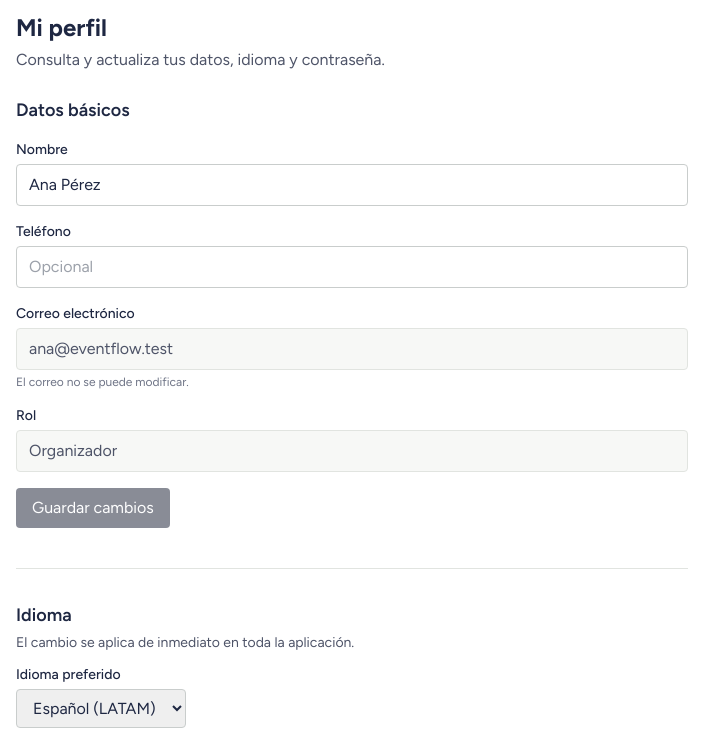
Test: US-006 — ver y editar perfil › AC-02: editar el nombre muestra el aviso de éxito
Replace the text in the field labelled "Nombre" with "Ana María" at (352, 185), box [16,164,688,206]
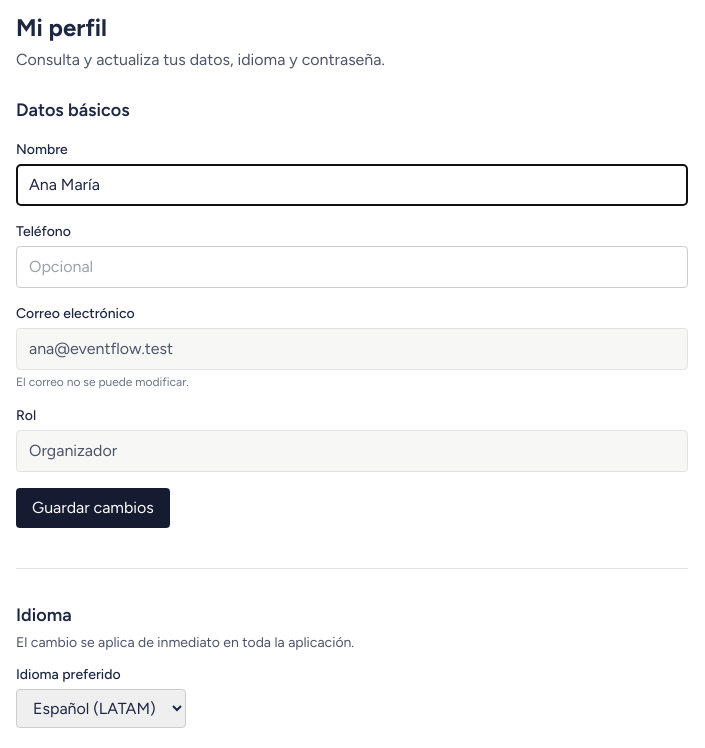
Click the button "Guardar cambios" at (93, 508), box [16,488,170,528]
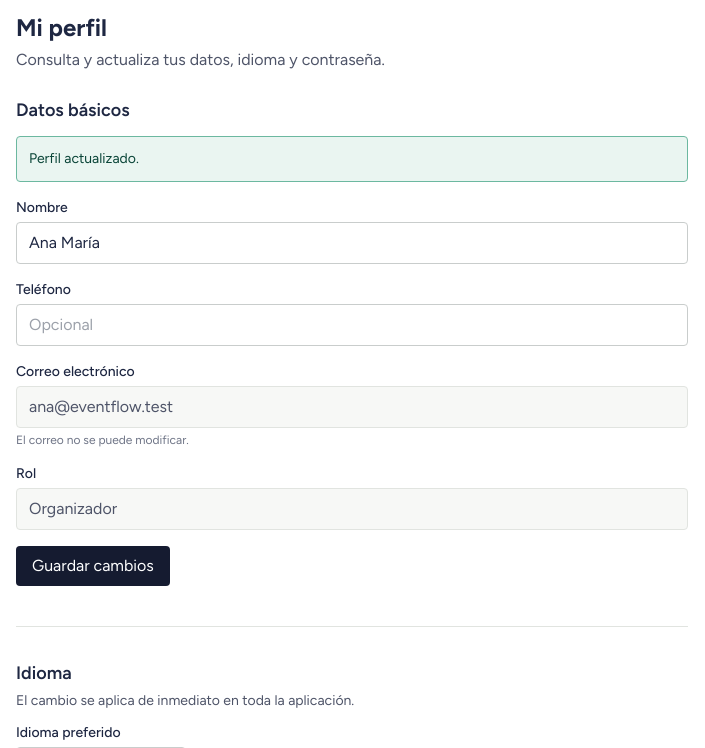
Check: the text "Perfil actualizado." is shown, box [16,136,688,182]
